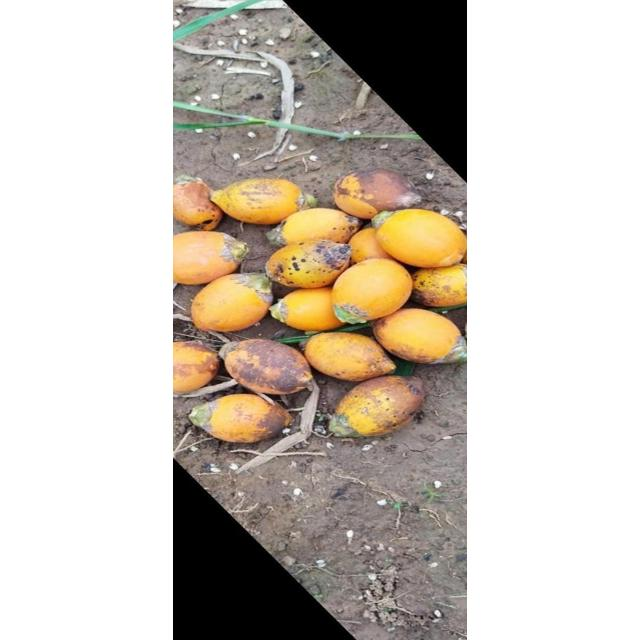good: (326, 375, 426, 435), (331, 258, 413, 324), (376, 208, 466, 268), (372, 308, 466, 364), (220, 339, 312, 395), (188, 393, 292, 442), (190, 274, 272, 332), (304, 332, 396, 382), (332, 169, 422, 219), (210, 178, 306, 224), (264, 240, 354, 288), (173, 232, 247, 286), (270, 210, 362, 248), (272, 287, 348, 331), (408, 263, 466, 307), (173, 180, 223, 230), (174, 340, 220, 392), (348, 228, 396, 264), (270, 280, 300, 302), (173, 340, 211, 354), (220, 340, 242, 362), (401, 262, 417, 274), (209, 190, 219, 200), (329, 179, 336, 191)
